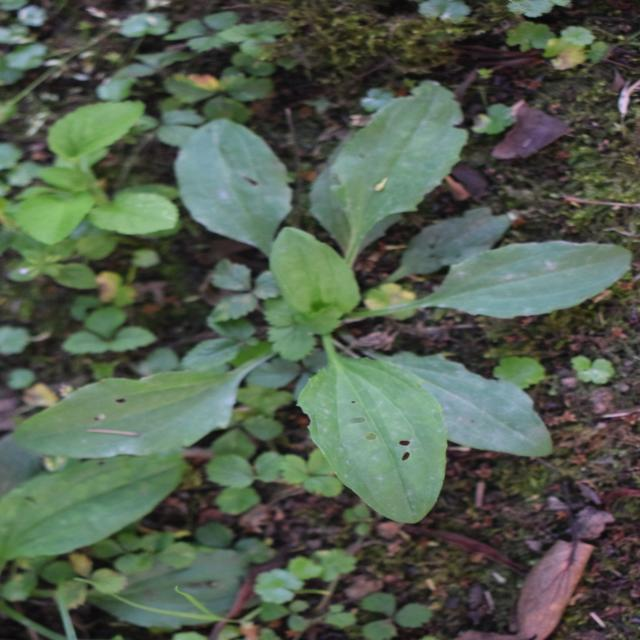plantain: (159, 73, 529, 608)
